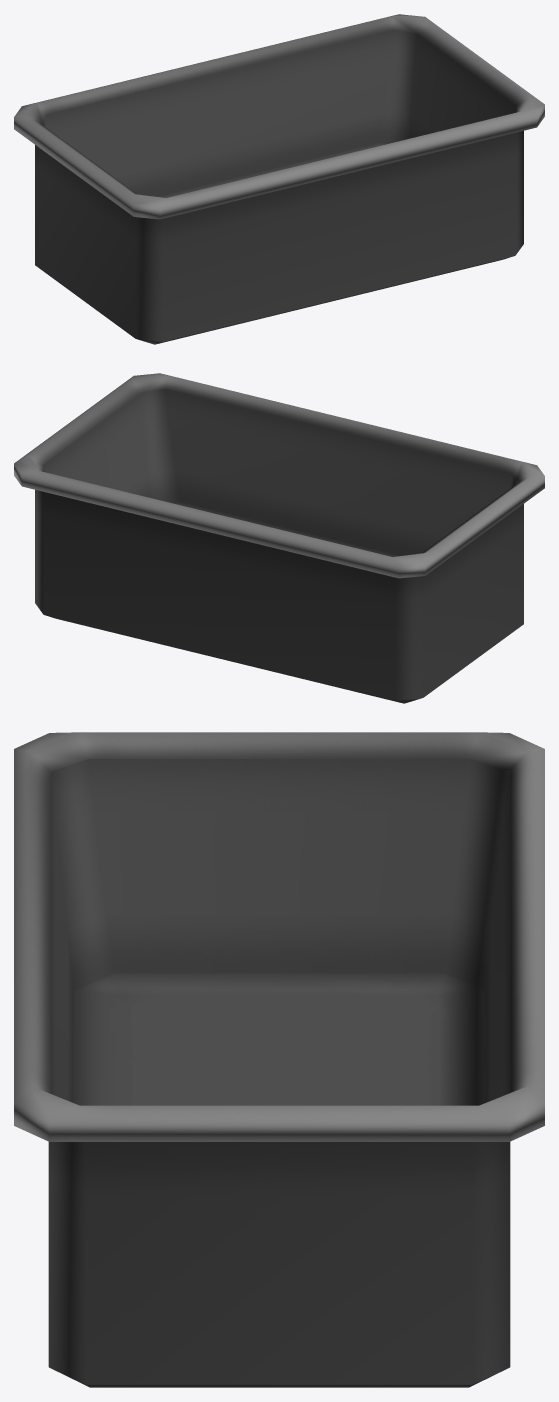
Rendered from Tray_Deep.fbx.
The picture shows the model from 3 angles, top to bottom: view 1: azimuth 30°, elevation 25°; view 2: azimuth 150°, elevation 25°; view 3: azimuth 270°, elevation 25°; orthographic projection. The views are drawn at different scales.
Parts seen in each view (by area): view 1: Tray_Deep; view 2: Tray_Deep; view 3: Tray_Deep.
Boxes of the visible parts, <box> form: Tray_Deep: <box>14,14,544,344</box>; Tray_Deep: <box>14,373,544,703</box>; Tray_Deep: <box>14,732,544,1387</box>.
Size of the model in its own units: 69.68 by 25.75 by 40.55.
